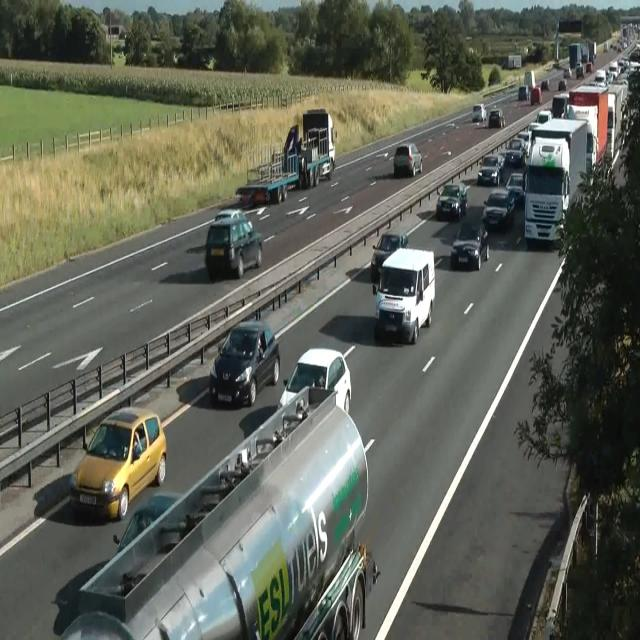bus: (293, 542, 379, 639), (278, 347, 352, 416), (112, 491, 184, 553), (371, 231, 409, 280), (393, 142, 422, 177), (235, 186, 269, 208), (506, 172, 526, 205), (504, 138, 526, 166), (528, 108, 552, 132), (214, 209, 246, 223), (517, 130, 531, 156), (318, 156, 332, 180), (489, 108, 505, 128), (472, 104, 486, 123), (530, 85, 542, 105), (518, 84, 529, 100), (594, 70, 606, 84), (575, 62, 583, 78), (541, 79, 549, 91), (558, 79, 566, 91), (563, 68, 571, 78), (586, 62, 593, 73)
car: (60, 382, 380, 638)
jeep: (69, 405, 167, 521), (208, 319, 280, 407), (373, 246, 435, 344), (205, 208, 262, 279), (449, 220, 489, 270), (482, 188, 515, 228), (436, 182, 468, 220), (477, 154, 503, 186)
minibus: (235, 109, 335, 207), (524, 117, 592, 248), (302, 108, 336, 172), (568, 40, 596, 68), (501, 54, 521, 70)
